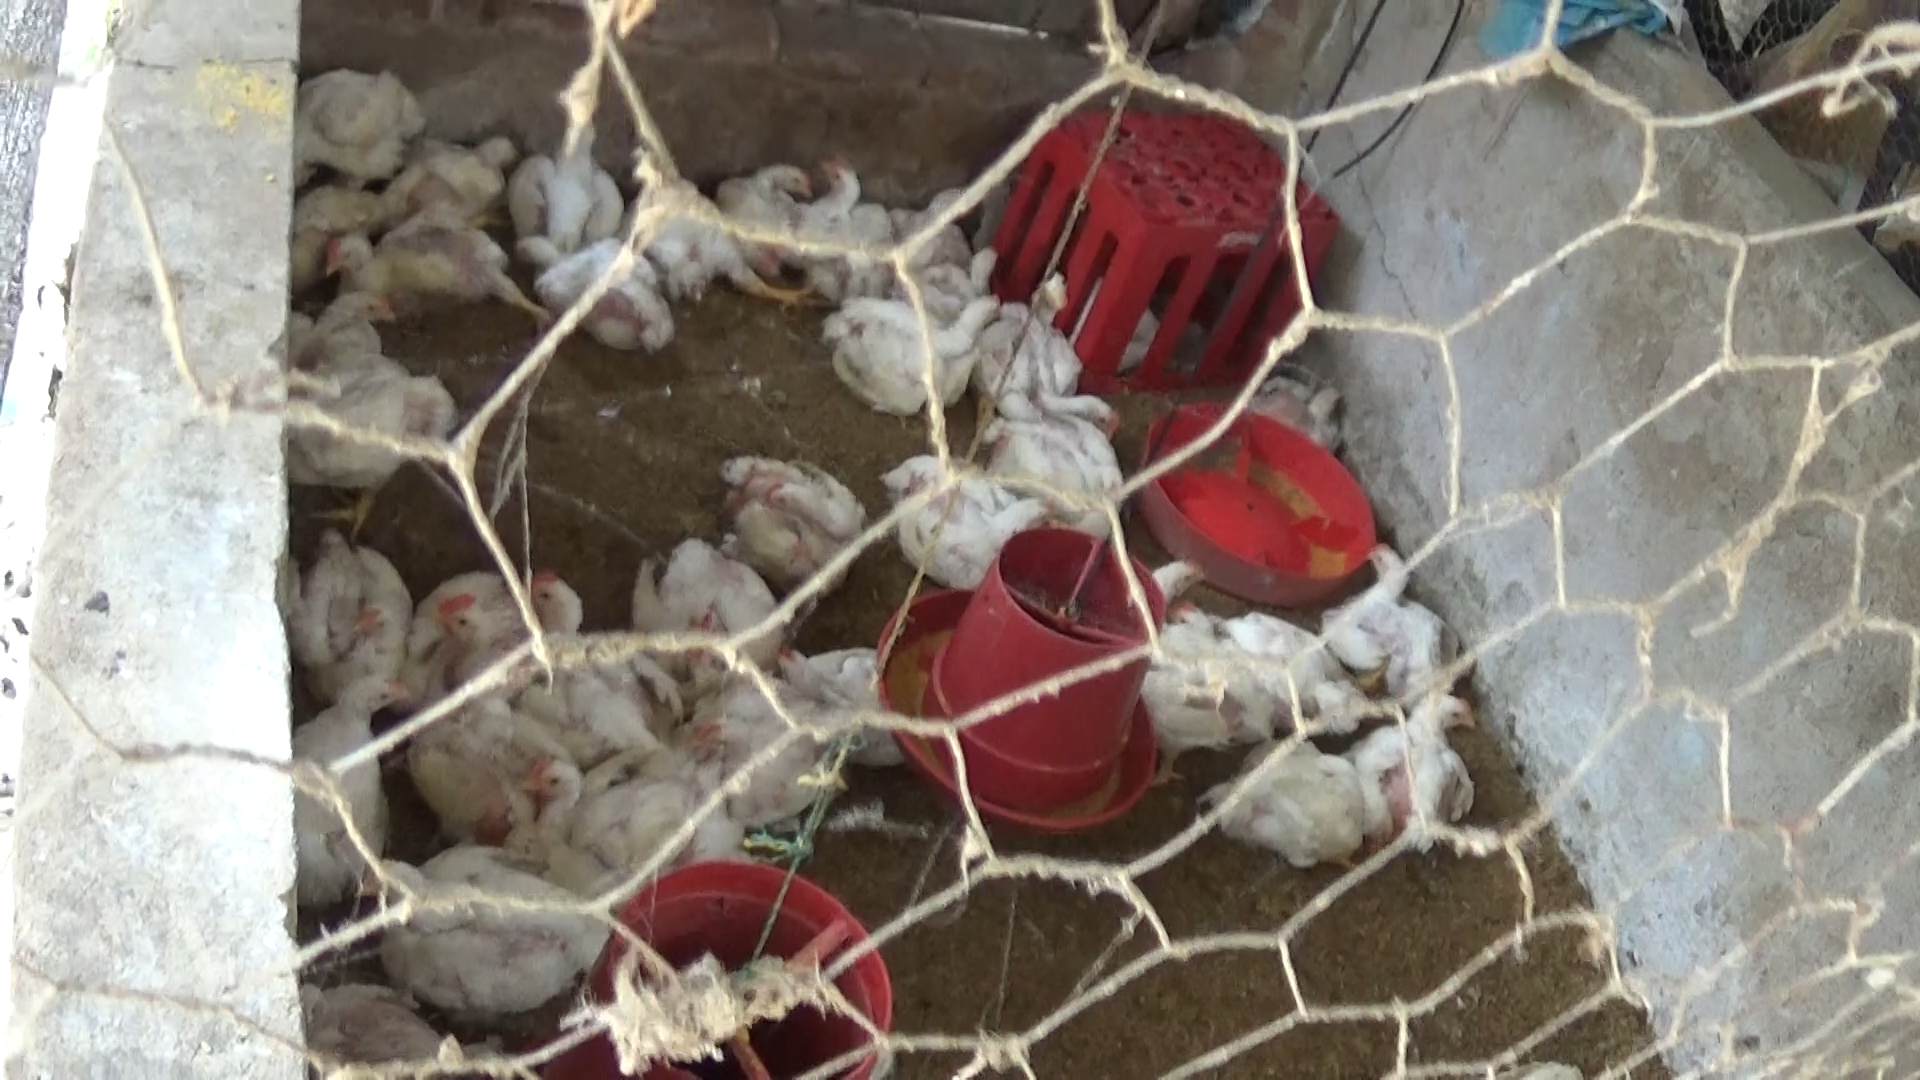Pollos: (353, 843, 604, 1015), (1168, 584, 1379, 746), (436, 599, 642, 744), (514, 753, 736, 873), (290, 673, 409, 891), (497, 223, 682, 361), (680, 659, 841, 815), (618, 142, 771, 305), (278, 348, 452, 491), (1205, 732, 1377, 876), (280, 524, 415, 704), (717, 448, 872, 597), (827, 289, 996, 418), (882, 460, 1055, 584), (637, 537, 787, 673), (282, 65, 439, 189), (1332, 529, 1451, 687), (1360, 703, 1505, 832), (512, 102, 621, 270), (996, 394, 1124, 538), (313, 222, 512, 310), (522, 570, 638, 683), (795, 153, 889, 287), (723, 140, 807, 284), (392, 138, 527, 218), (277, 282, 405, 363), (924, 239, 997, 301)
